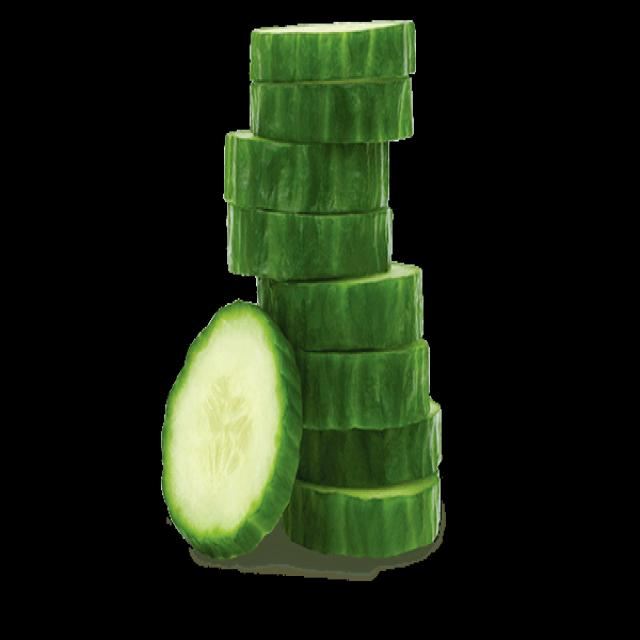Pickle: (161, 302, 302, 558), (256, 262, 422, 350), (225, 130, 388, 213), (228, 204, 392, 280), (298, 401, 441, 488), (295, 339, 430, 429), (251, 20, 416, 82), (250, 80, 412, 143)
